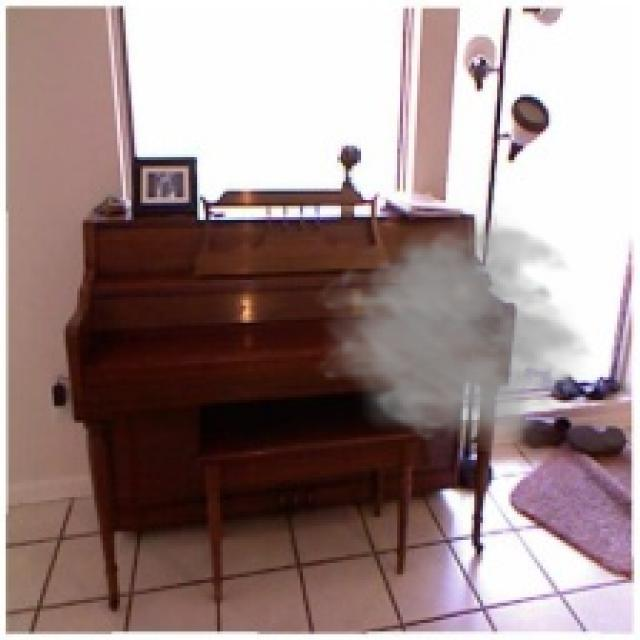Smoke: (312, 206, 594, 451)
